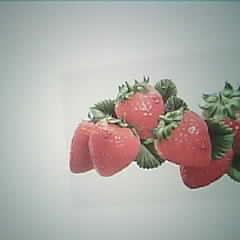straw-ripe: (157, 112, 211, 168), (90, 119, 138, 177)
